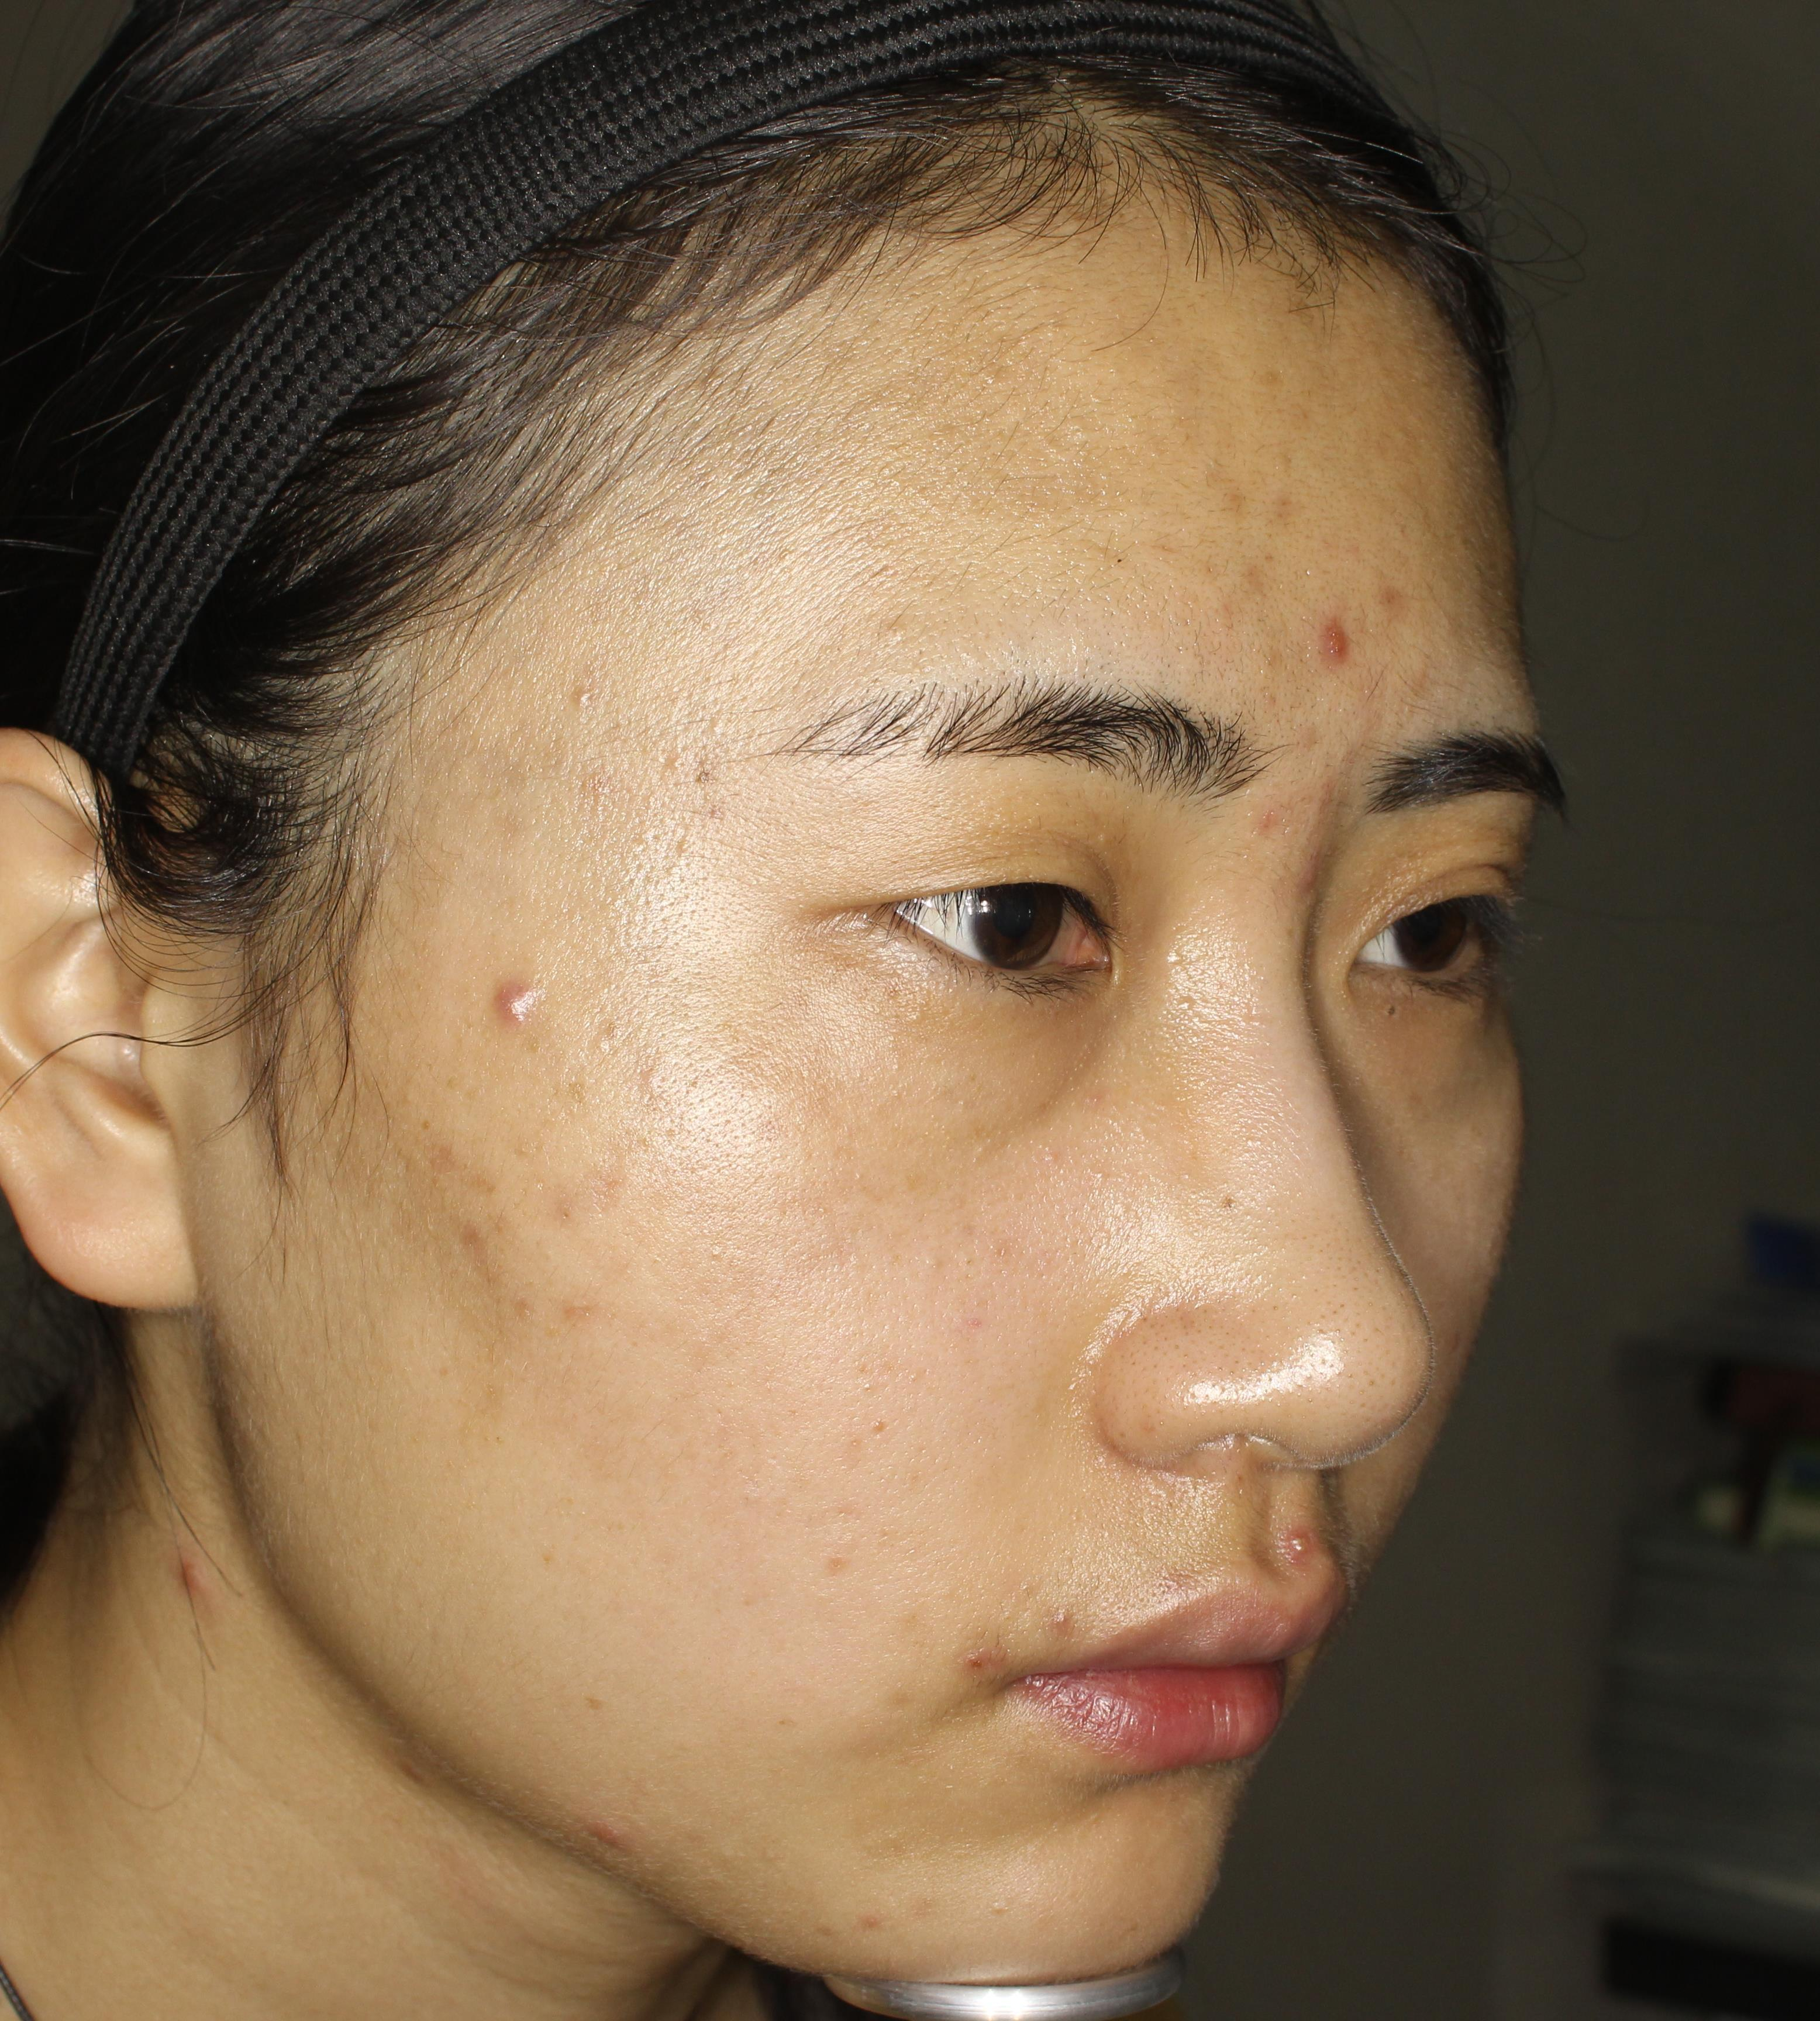fore: (471, 957, 606, 1055), (141, 1514, 230, 1621), (1291, 595, 1372, 688), (1282, 1517, 1346, 1594), (580, 1791, 629, 1866)
